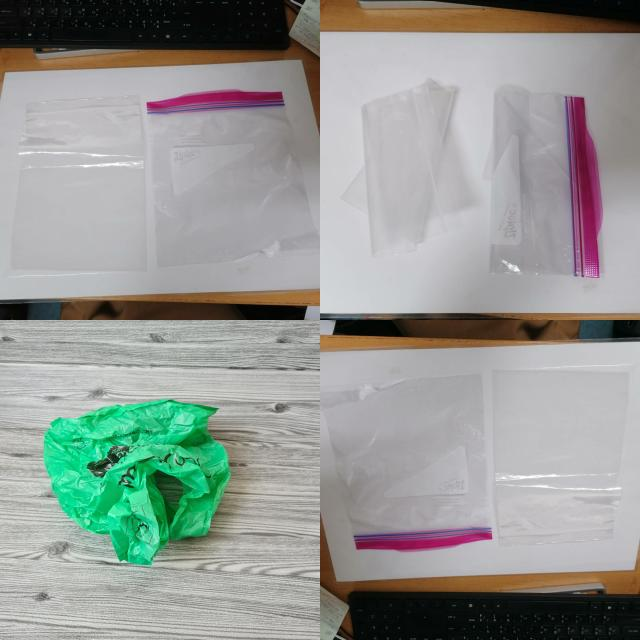Single-layer Plastic: (44, 400, 230, 565), (148, 90, 319, 266), (321, 375, 491, 551), (492, 366, 630, 546), (10, 96, 146, 275), (484, 85, 602, 278), (341, 79, 460, 256)
